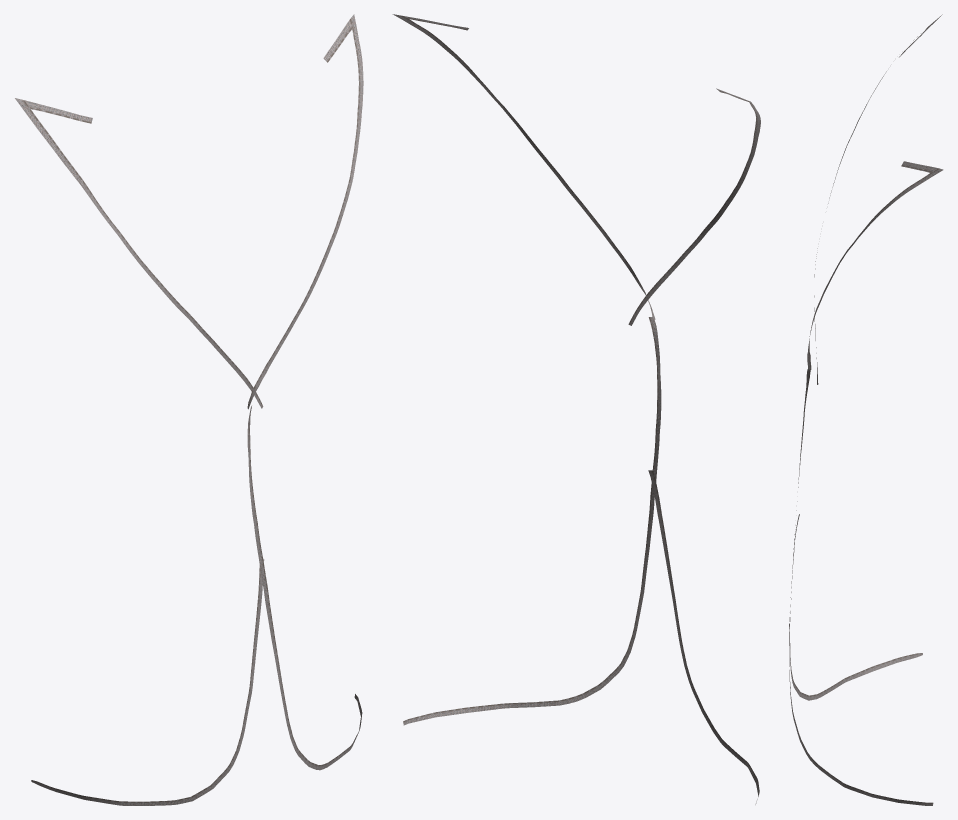
File: peak_double_button_wide_AMF 6mm.glb
3 views of the same model, side by side, from view 1: azimuth 30°, elevation 25°; view 2: azimuth 150°, elevation 25°; view 3: azimuth 270°, elevation 25° (orthographic). The views are drawn at different scales.
Parts seen in each view (by area): view 1: peak_double_button_wide_AMF1; view 2: peak_double_button_wide_AMF1; view 3: peak_double_button_wide_AMF1.
Part boxes in pixels (<box>): peak_double_button_wide_AMF1: <box>15,14,363,805</box>; peak_double_button_wide_AMF1: <box>392,14,760,804</box>; peak_double_button_wide_AMF1: <box>789,14,943,805</box>.
Bounding box in the file's own units: 0.0489 × 0.094 × 0.0205.
Materials: 1 (1 with a texture image).
